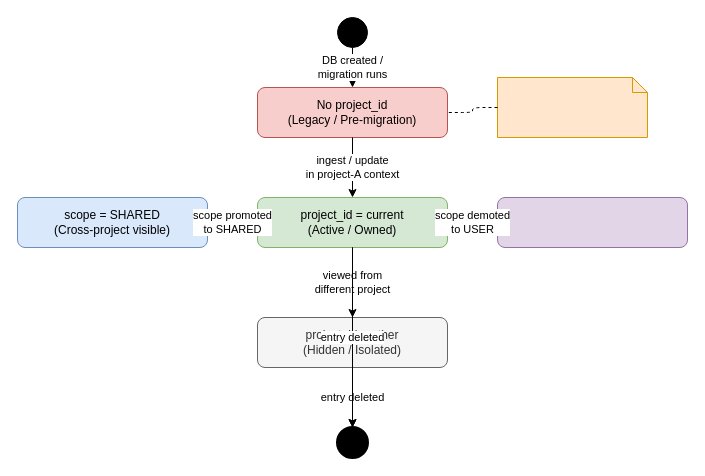
Some shapes in this 705 by 476 pixel diagram are drawn without their labels. The centre of each missing label's shape, as x and y in pixels:
Legacy entries (NULL) are visible from ALL projects: (572,107)
scope = USER (Personal / user_id filter): (592,222)
